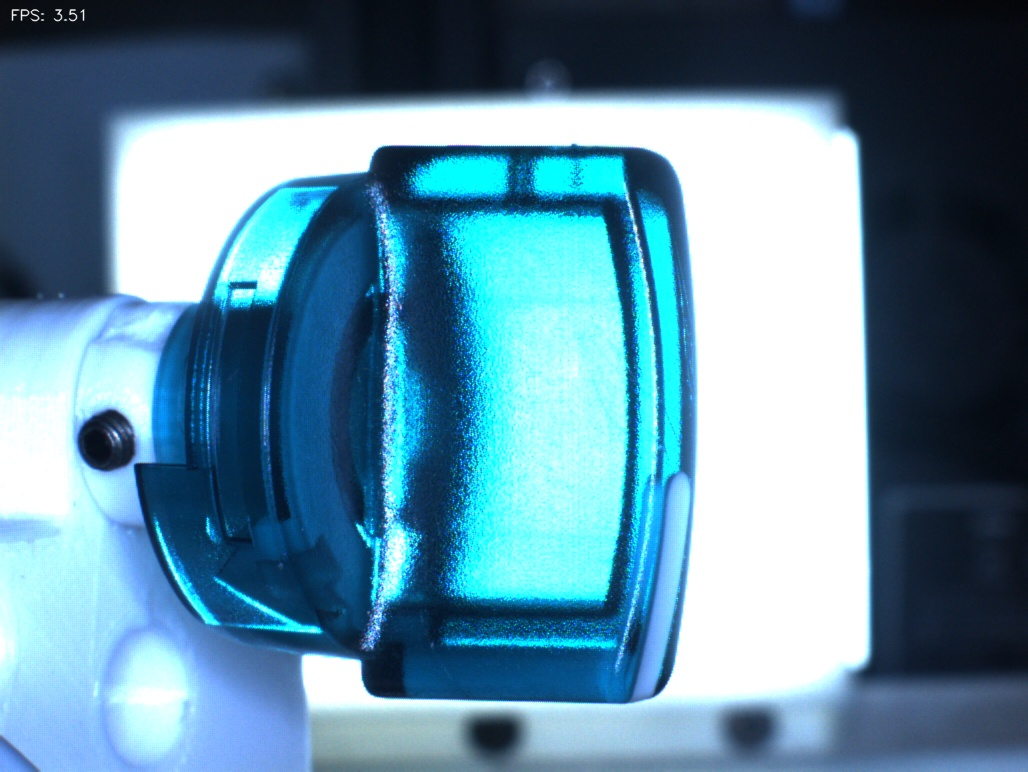Bulle: (481, 127, 583, 233)
